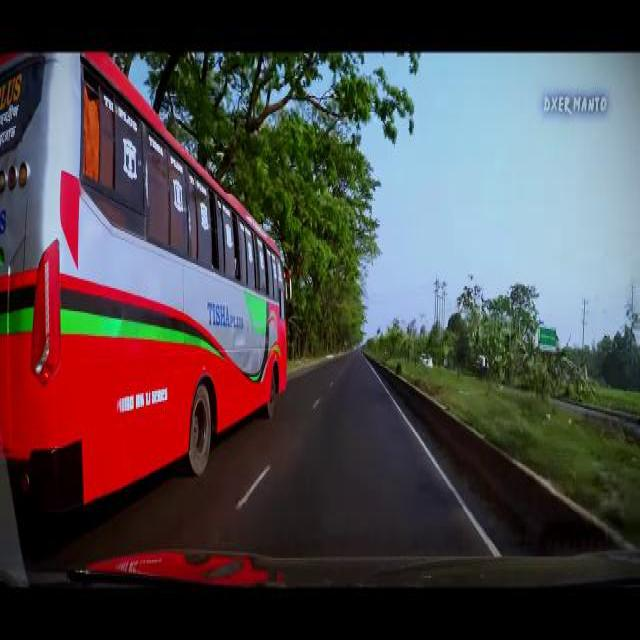Truck: (0, 53, 294, 544)
